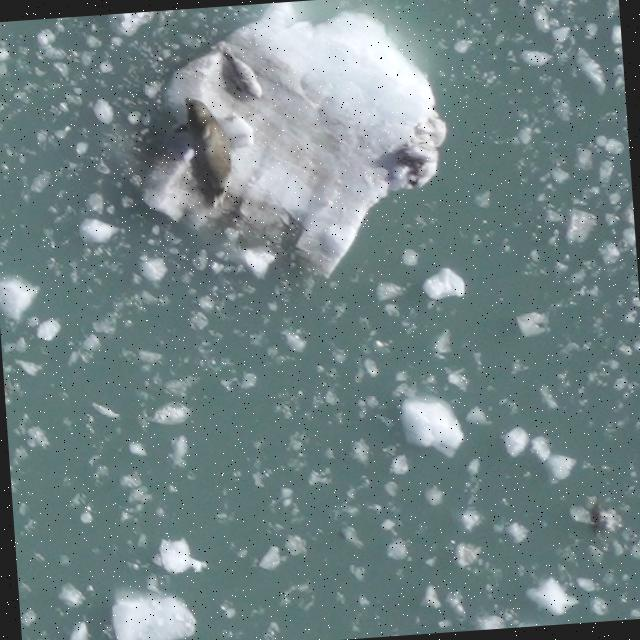seal: (165, 91, 239, 215), (216, 39, 267, 107)
